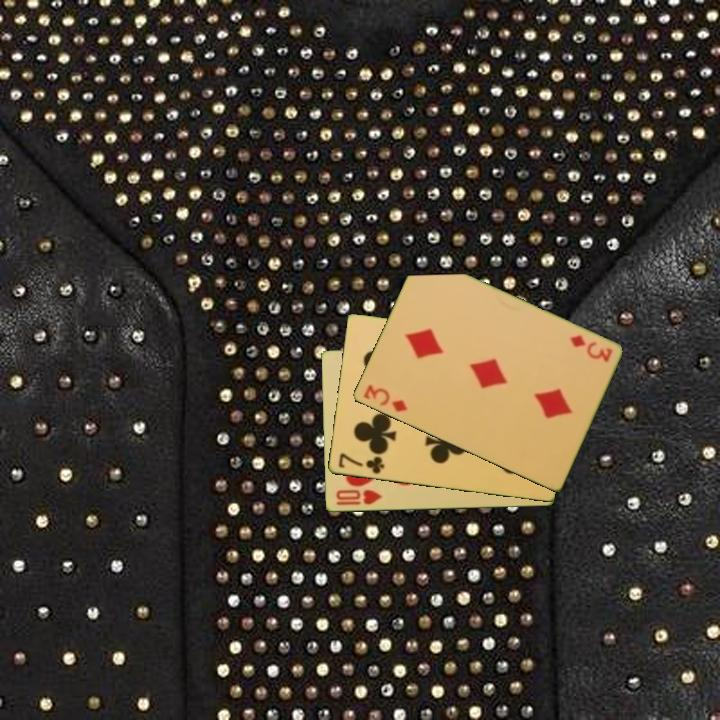10h: (332, 486, 385, 508)
3d: (360, 381, 410, 416), (566, 332, 615, 365)
7c: (334, 450, 387, 477)
